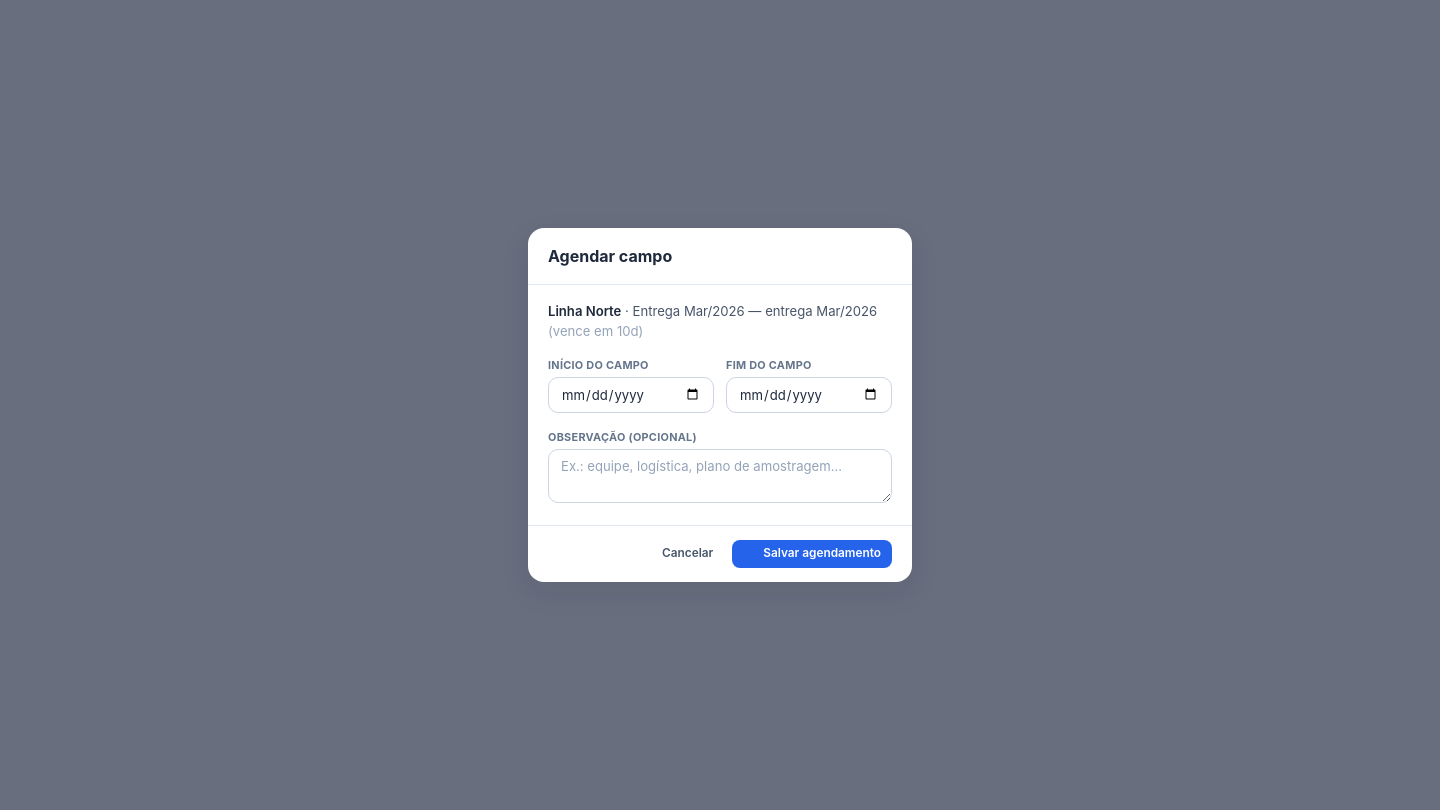
Test: ScheduleFieldModal › exige as datas de inicio e fim
Click the button "Salvar agendamento": (812, 554) [732,540,892,568]
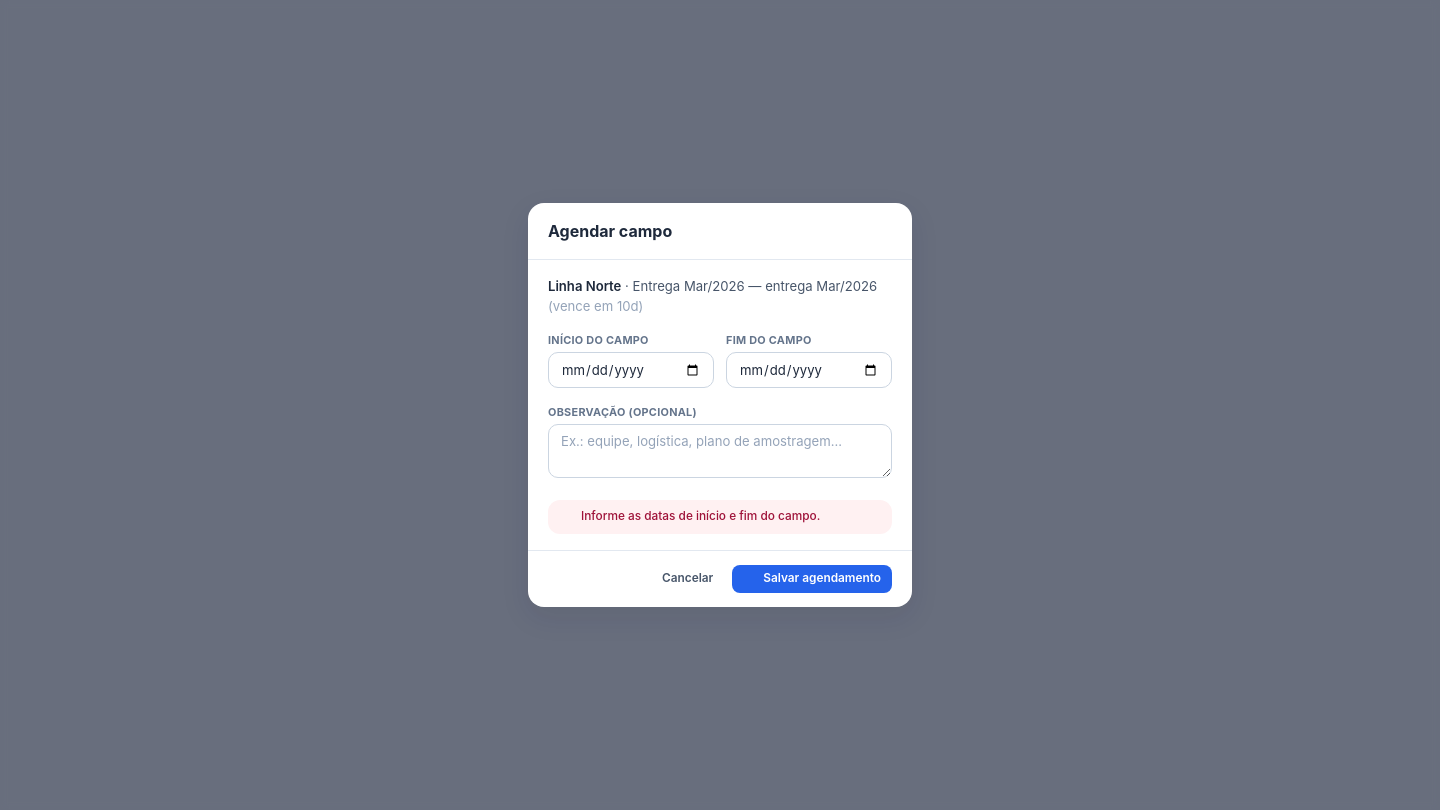
Now the text "Informe as datas" is shown, box [581,509,820,523]
